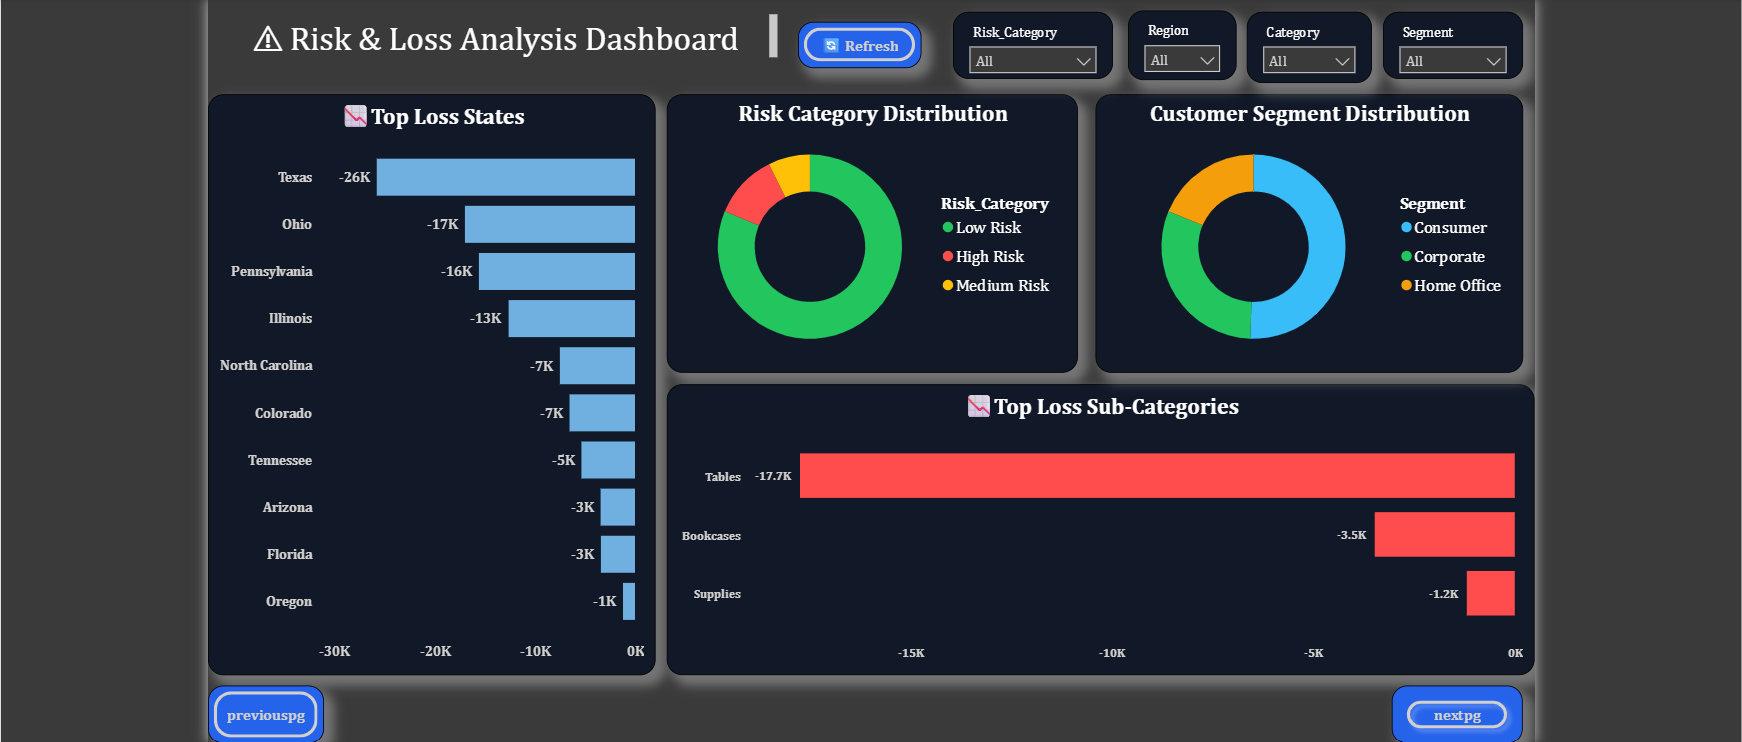

The page's visual inventory and layout, read from the dashboard file:
{"tool":"powerbi","page":{"name":"Risk Analysis","canvas":[1280,720],"ordinal":1},"visuals":[{"type":"textbox","box":[9.7,10.9,545.3,51.9],"z":0},{"type":"clusteredBarChart","title":"📉Top Loss States","fields":{"Category":["business_profit_analysis superstore.State"],"Y":["Sum(business_profit_analysis superstore.Profit)"]},"box":[0,92.9,431.9,561],"z":1000},{"type":"donutChart","title":" Risk Category Distribution","fields":{"Category":["business_profit_analysis superstore.Risk_Category"],"Y":["CountNonNull(business_profit_analysis superstore.Risk_Category)"]},"box":[442.8,92.9,396.9,269],"z":2000},{"type":"clusteredBarChart","title":"📉Top Loss Sub-Categories","fields":{"Y":["Sum(business_profit_analysis superstore.Profit)"],"Category":["business_profit_analysis superstore.Sub_Category"]},"box":[442.8,372.8,837.3,281.1],"z":3000},{"type":"donutChart","title":"Customer Segment Distribution","fields":{"Y":["Sum(business_profit_analysis superstore.Sales)"],"Category":["business_profit_analysis superstore.Segment"]},"box":[856.6,92.9,412.6,269],"z":4000},{"type":"actionButton","box":[569.4,22.9,119.4,44.6],"z":5000},{"type":"actionButton","box":[0,663.5,112.2,56.7],"z":6000},{"type":"actionButton","box":[1142.5,663.5,126.7,56.7],"z":7000},{"type":"slicer","fields":{"Values":["business_profit_analysis superstore.Risk_Category"]},"box":[719,13.3,154.4,65.1],"z":8000},{"type":"slicer","fields":{"Values":["business_profit_analysis superstore.Region"]},"box":[887.9,12.1,105,67.6],"z":9000},{"type":"slicer","fields":{"Values":["business_profit_analysis superstore.Category"]},"box":[1002.6,13.3,120.6,68.8],"z":10000},{"type":"slicer","fields":{"Values":["business_profit_analysis superstore.Segment"]},"box":[1134.1,13.3,135.1,65.1],"z":11000}]}

Visuals, with their boxes on the page's 1280x720 design canvas (x1, y1, x2, y2). These are canvas units, not pixel positions in the 1742x742 screenshot, which may show the page scaled, cropped or inside an application window:
textbox: crop(10, 11, 555, 63)
"📉Top Loss States" clusteredBarChart: crop(0, 93, 432, 654)
" Risk Category Distribution" donutChart: crop(443, 93, 840, 362)
"📉Top Loss Sub-Categories" clusteredBarChart: crop(443, 373, 1280, 654)
"Customer Segment Distribution" donutChart: crop(857, 93, 1269, 362)
actionButton: crop(569, 23, 689, 68)
actionButton: crop(0, 664, 112, 720)
actionButton: crop(1142, 664, 1269, 720)
slicer - business_profit_analysis superstore.Risk_Category: crop(719, 13, 873, 78)
slicer - business_profit_analysis superstore.Region: crop(888, 12, 993, 80)
slicer - business_profit_analysis superstore.Category: crop(1003, 13, 1123, 82)
slicer - business_profit_analysis superstore.Segment: crop(1134, 13, 1269, 78)
